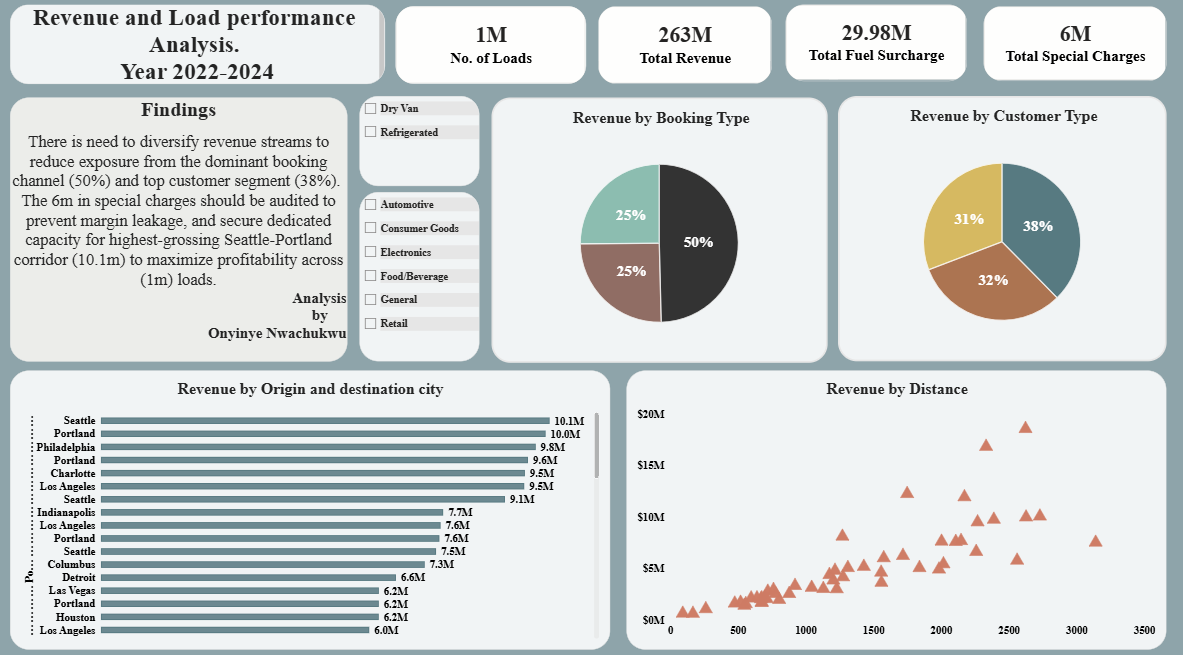

This screenshot's page, from the dashboard's own definition file:
{"tool":"powerbi","page":{"name":"Revenue and load performance","canvas":[1920,1080],"ordinal":0},"visuals":[{"type":"pieChart","title":"Revenue by Customer Type","fields":{"Category":["customers.customer type"],"Y":["Sum(loads.revenue)"]},"box":[1360,181.3,522.5,422.3],"z":0},{"type":"scatterChart","title":"Revenue by Distance","fields":{"X":["routes.distance"],"Y":["Sum(loads.revenue)"]},"box":[1023.6,618,858.9,443.8],"z":1000},{"type":"pieChart","title":"Revenue by Booking Type","fields":{"Category":["loads.booking type"],"Y":["Sum(loads.revenue)"]},"box":[808.8,183.7,534.4,422.3],"z":2000},{"type":"slicer","fields":{"Values":["customers.freight type"]},"box":[598.9,334,190.9,269.6],"z":3000},{"type":"slicer","fields":{"Values":["loads.load type"]},"box":[598.9,181.3,190.9,143.2],"z":4000},{"type":"barChart","title":"Revenue by Origin and destination city","fields":{"Category":["routes.origin city","routes.destination city"],"Y":["Sum(loads.revenue)"]},"box":[42.9,618,954.4,443.8],"z":5000},{"type":"cardVisual","fields":{"Data":["Sum(loads.special charges)"]},"box":[1591.4,38.2,291.1,119.3],"z":6000},{"type":"cardVisual","fields":{"Data":["Sum(loads.fuel surcharge)"]},"box":[1276.5,35.8,288.7,121.7],"z":7000},{"type":"cardVisual","fields":{"Data":["Sum(loads.revenue)"]},"box":[978.2,38.2,276.8,124.1],"z":8000},{"type":"cardVisual","fields":{"Data":["Sum(loads.pieces)"]},"box":[656.1,38.2,303,124.1],"z":9000},{"type":"textbox","box":[42.9,35.8,596.5,126.5],"z":10000},{"type":"textbox","box":[42.9,183.7,536.8,419.9],"z":11000}]}

Visuals, with their boxes in screenshot pixels (x1, y1, x2, y2), scaled from the page's 1920x1080 canvas onto the 1183x655 screenshot:
"Revenue by Customer Type" pieChart: {"left": 838, "top": 110, "right": 1160, "bottom": 366}
"Revenue by Distance" scatterChart: {"left": 631, "top": 375, "right": 1160, "bottom": 644}
"Revenue by Booking Type" pieChart: {"left": 498, "top": 111, "right": 828, "bottom": 368}
slicer - customers.freight type: {"left": 369, "top": 203, "right": 487, "bottom": 366}
slicer - loads.load type: {"left": 369, "top": 110, "right": 487, "bottom": 197}
"Revenue by Origin and destination city" barChart: {"left": 26, "top": 375, "right": 614, "bottom": 644}
cardVisual - Sum(loads.special charges): {"left": 981, "top": 23, "right": 1160, "bottom": 96}
cardVisual - Sum(loads.fuel surcharge): {"left": 787, "top": 22, "right": 964, "bottom": 96}
cardVisual - Sum(loads.revenue): {"left": 603, "top": 23, "right": 773, "bottom": 98}
cardVisual - Sum(loads.pieces): {"left": 404, "top": 23, "right": 591, "bottom": 98}
textbox: {"left": 26, "top": 22, "right": 394, "bottom": 98}
textbox: {"left": 26, "top": 111, "right": 357, "bottom": 366}
